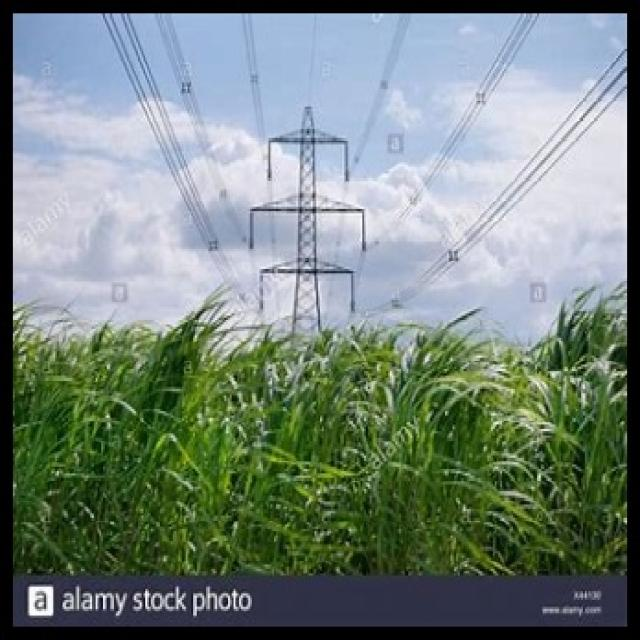utility poles: (254, 90, 368, 577)
